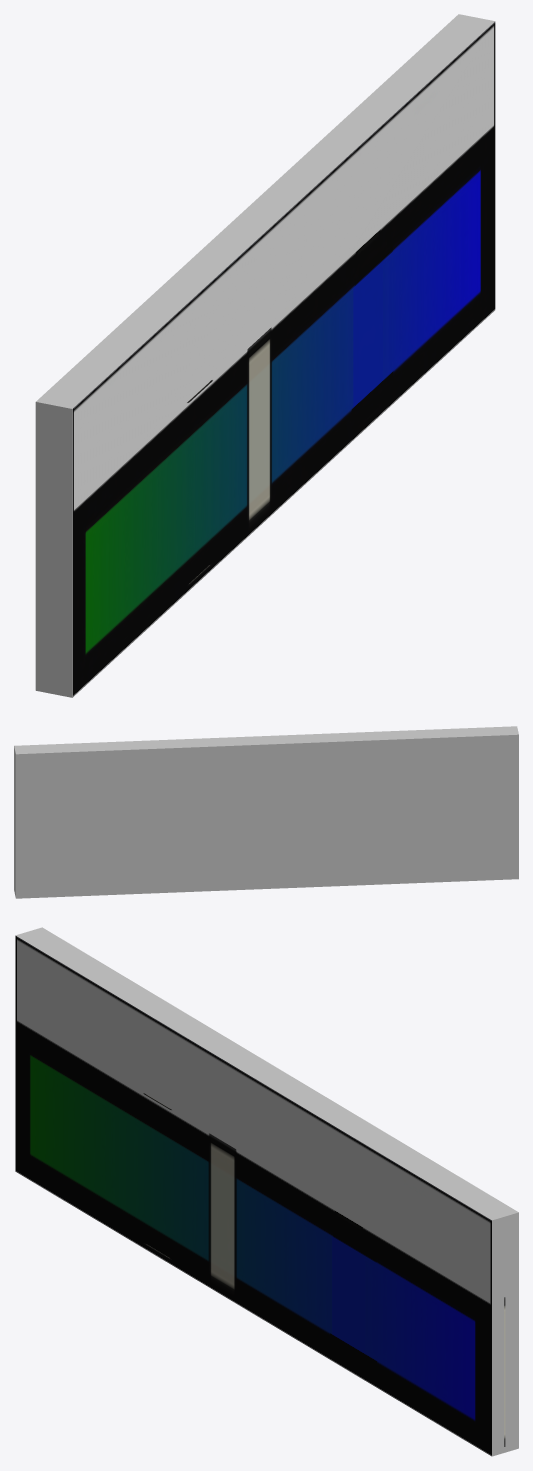
File: SliderBar_091-148-021__704f4d13-7390-4429-977e-da8ebd5412bb.dae
3 views of the same model, one above another, from view 1: azimuth 30°, elevation 25°; view 2: azimuth 150°, elevation 25°; view 3: azimuth 270°, elevation 25° (orthographic). The views are drawn at different scales.
Visible parts, largest first — view 1: Primitive, SliderBar; view 2: Primitive; view 3: Primitive, SliderBar.
Part boxes in pixels (box(x1,y1,x2,y2)): Primitive: box(35, 14, 495, 697); SliderBar: box(187, 327, 271, 585); Primitive: box(14, 726, 518, 898); Primitive: box(15, 927, 518, 1456); SliderBar: box(143, 1093, 505, 1446).
Size of the model in its own units: 0.9765 by 0.7101 by 0.3664.
